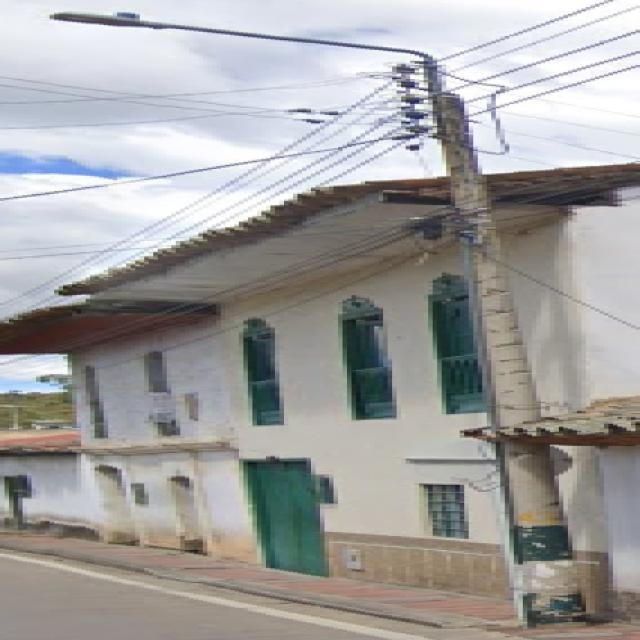Fachada: (0, 162, 631, 621)
Poste: (54, 12, 536, 429), (496, 434, 581, 625)
